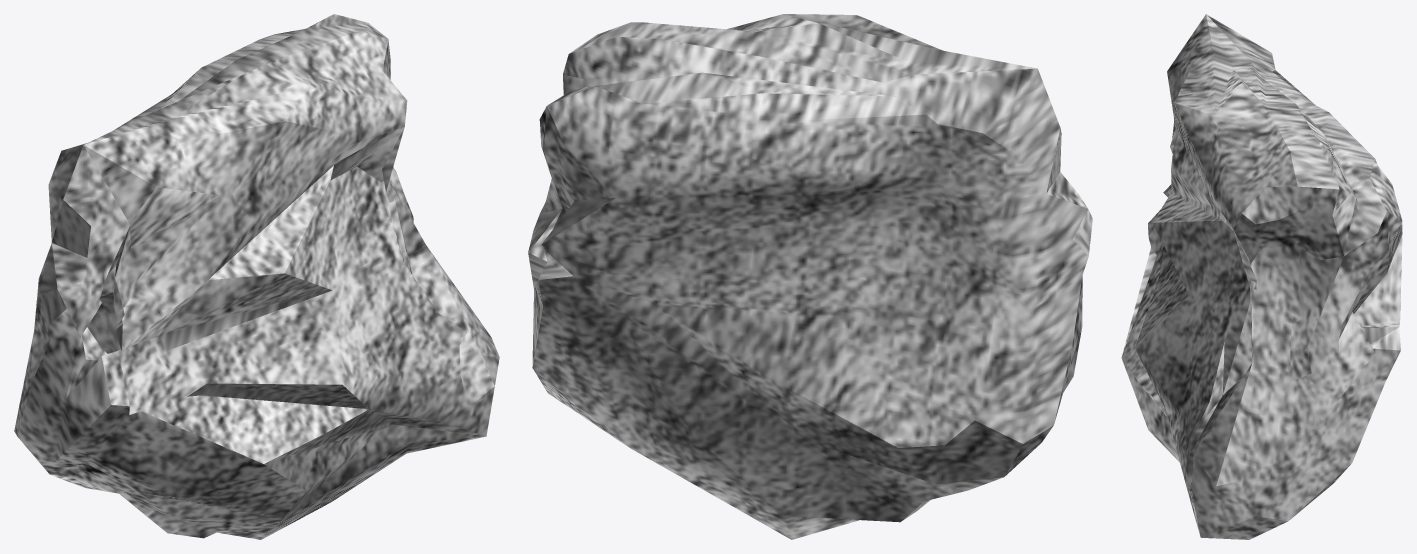
File: Rock_Asset_09.fbx
3 renders of one model, left to right at view 1: azimuth 30°, elevation 25°; view 2: azimuth 150°, elevation 25°; view 3: azimuth 270°, elevation 25°, orthographic. The views are drawn at different scales.
Visible parts, largest first — view 1: Rock_Asset; view 2: Rock_Asset; view 3: Rock_Asset.
Part boxes in pixels (x1=…): Rock_Asset: x1=14, y1=14, x2=499, y2=539; Rock_Asset: x1=528, y1=14, x2=1092, y2=539; Rock_Asset: x1=1121, y1=14, x2=1402, y2=539.
Size of the model in its own units: 1.65 by 1.57 by 0.9538.
Materials: 1 (1 with a texture image).
